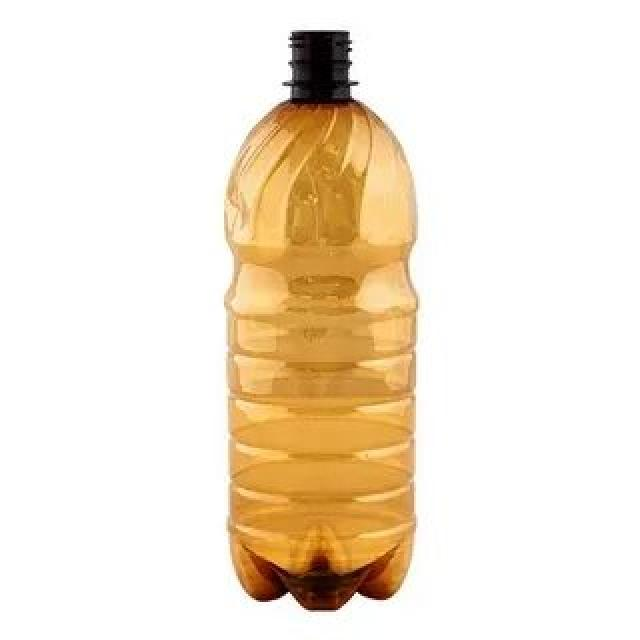brown: (222, 30, 415, 613)
